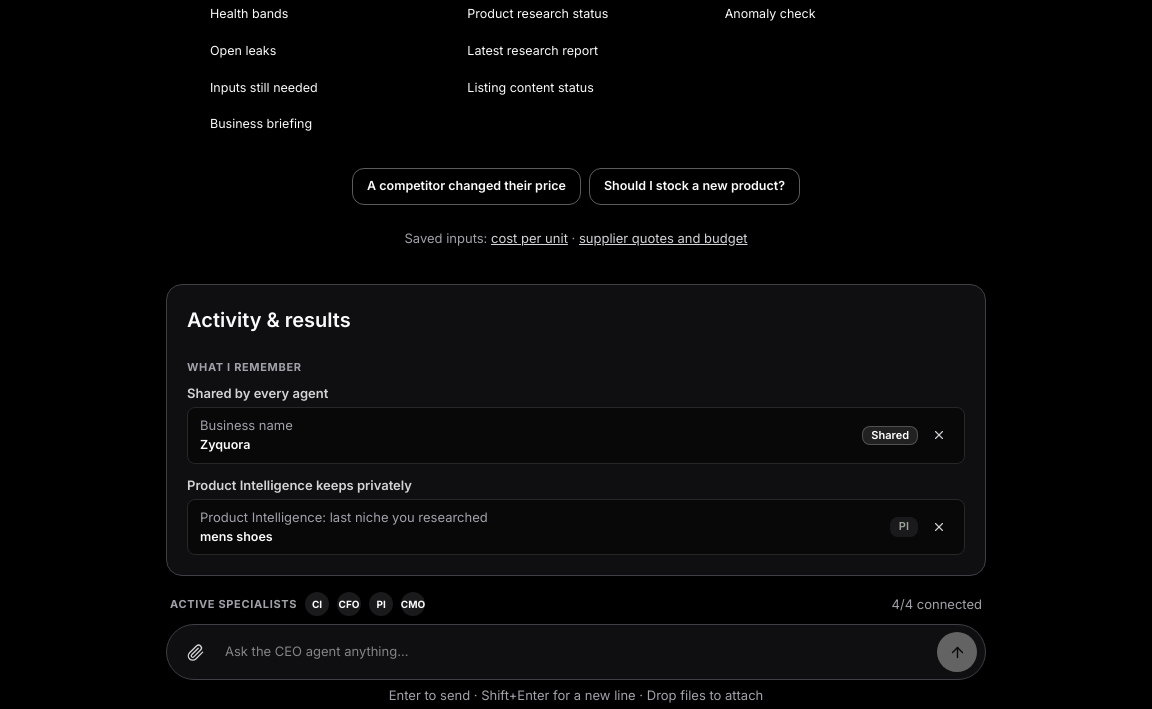
Test case: what I remember › shows each remembered item verbatim with whether it is shared, and forgets the one the seller removes
The width and height of the screenshot is (1152, 709).
(page scrolled)
Expected: the list item with test id "memory-m1" shows "Zyquora", [200, 437, 250, 452]
Expected: the text "Shared" is shown, [862, 426, 918, 445]
Click the button named "Forget Business name" at (939, 436), box [926, 422, 952, 448]
(page scrolled)
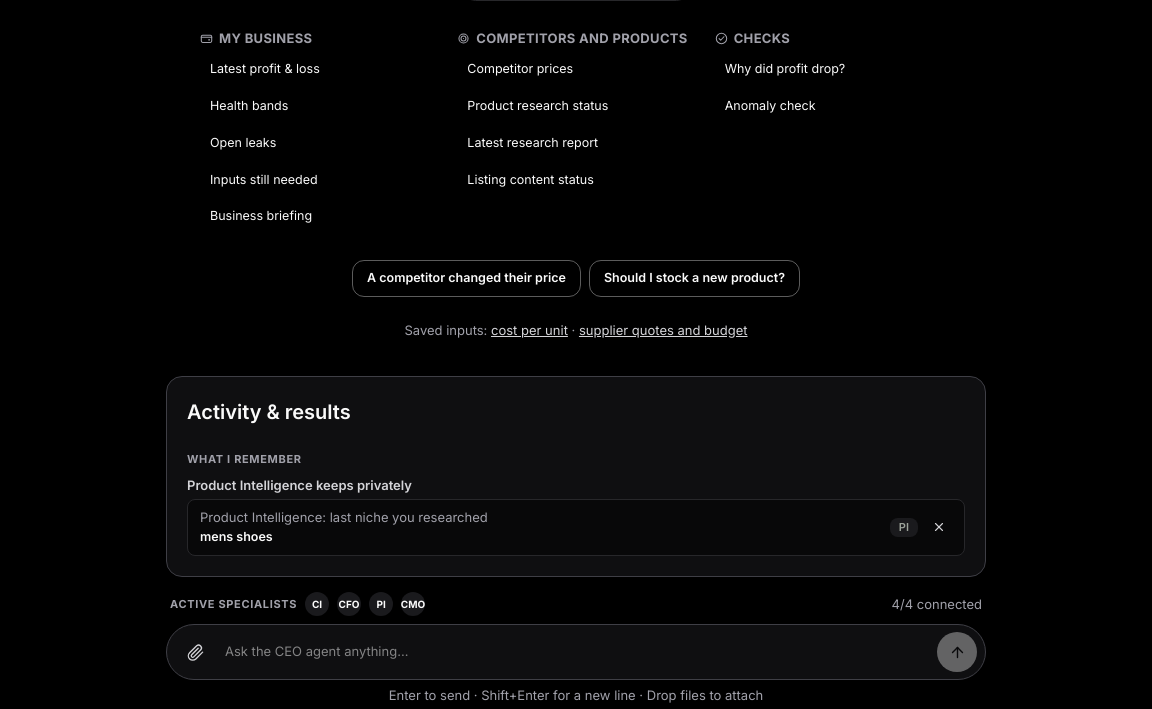
Expected: the list item with test id "memory-m2" is shown, [187, 499, 965, 556]
Result: the list item with test id "memory-m1" is gone
